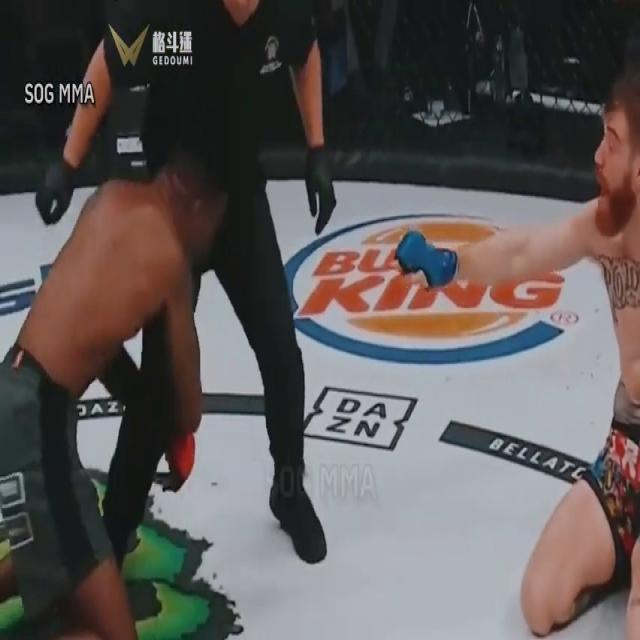fight: (0, 57, 640, 640)
non-fight: (33, 0, 339, 571)
